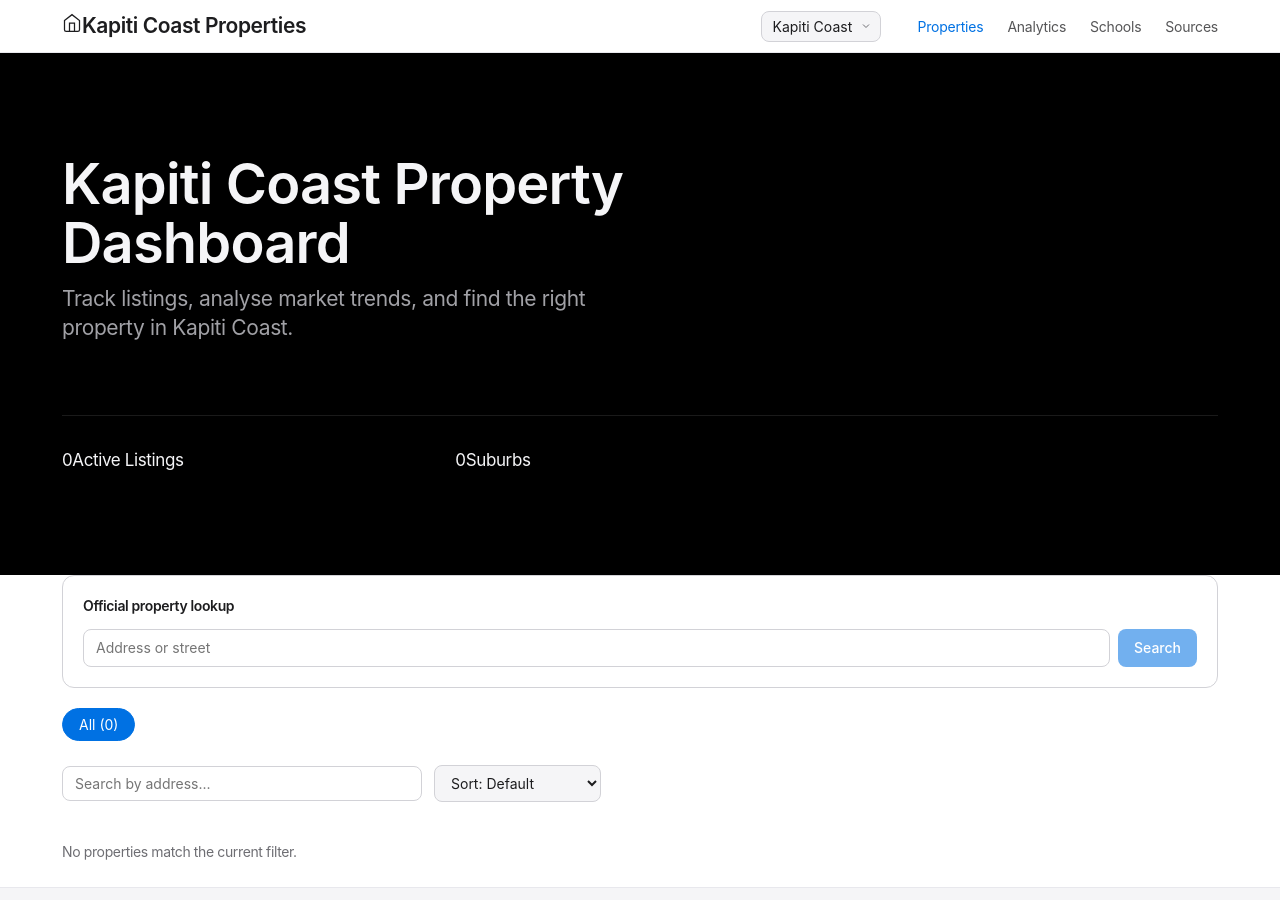
it: App › shows school radar when clicking Schools
What coordinates should you click on to do the following:
click the 3rd button named "Schools"
I would click on:
 (1116, 26)
Its box is [1090, 18, 1141, 34].
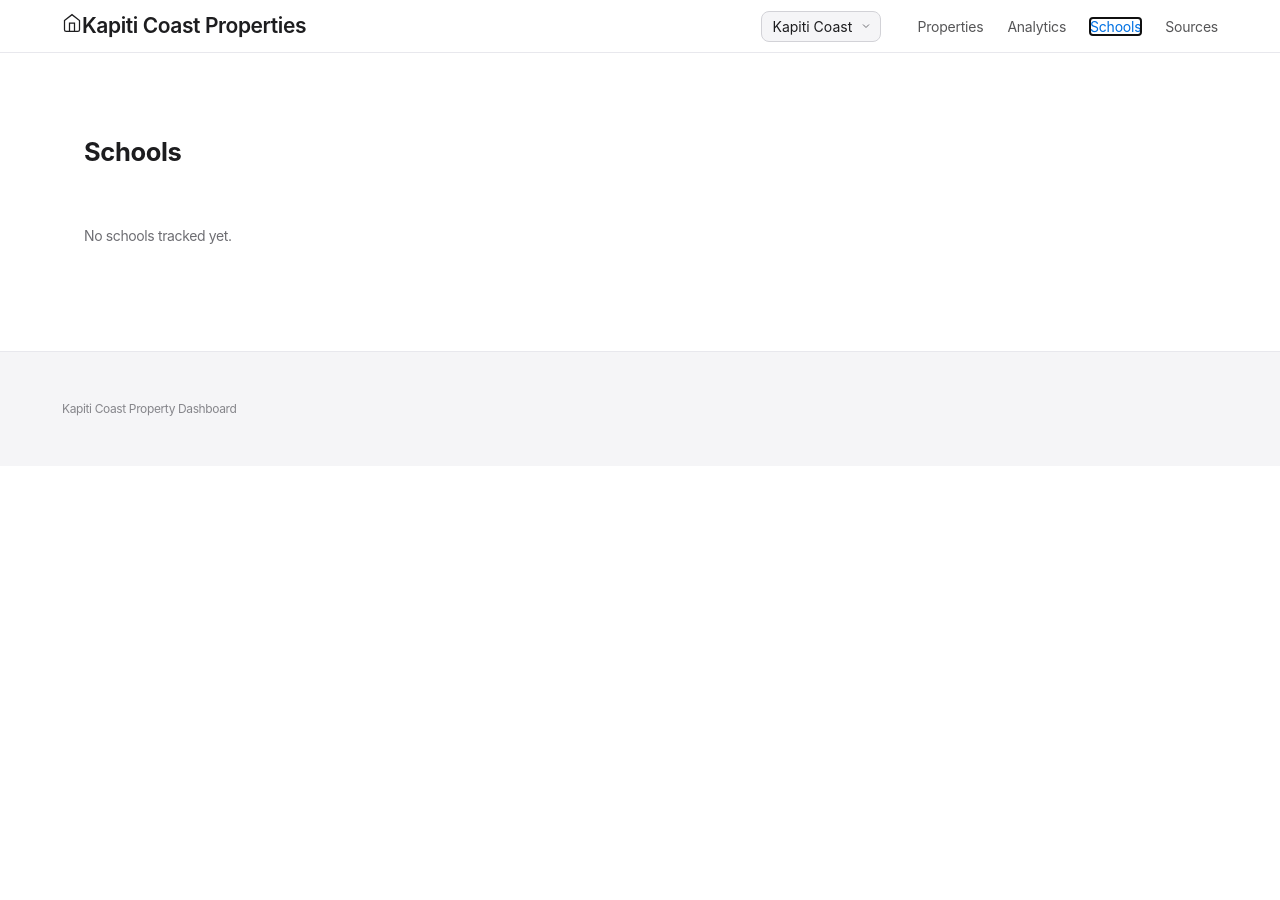
Check: the element with test id "school-radar" is shown, box [84, 136, 232, 244]
